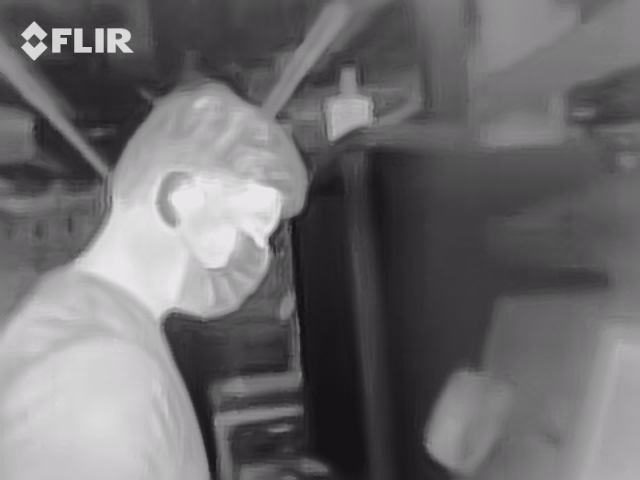head: (110, 78, 309, 320)
